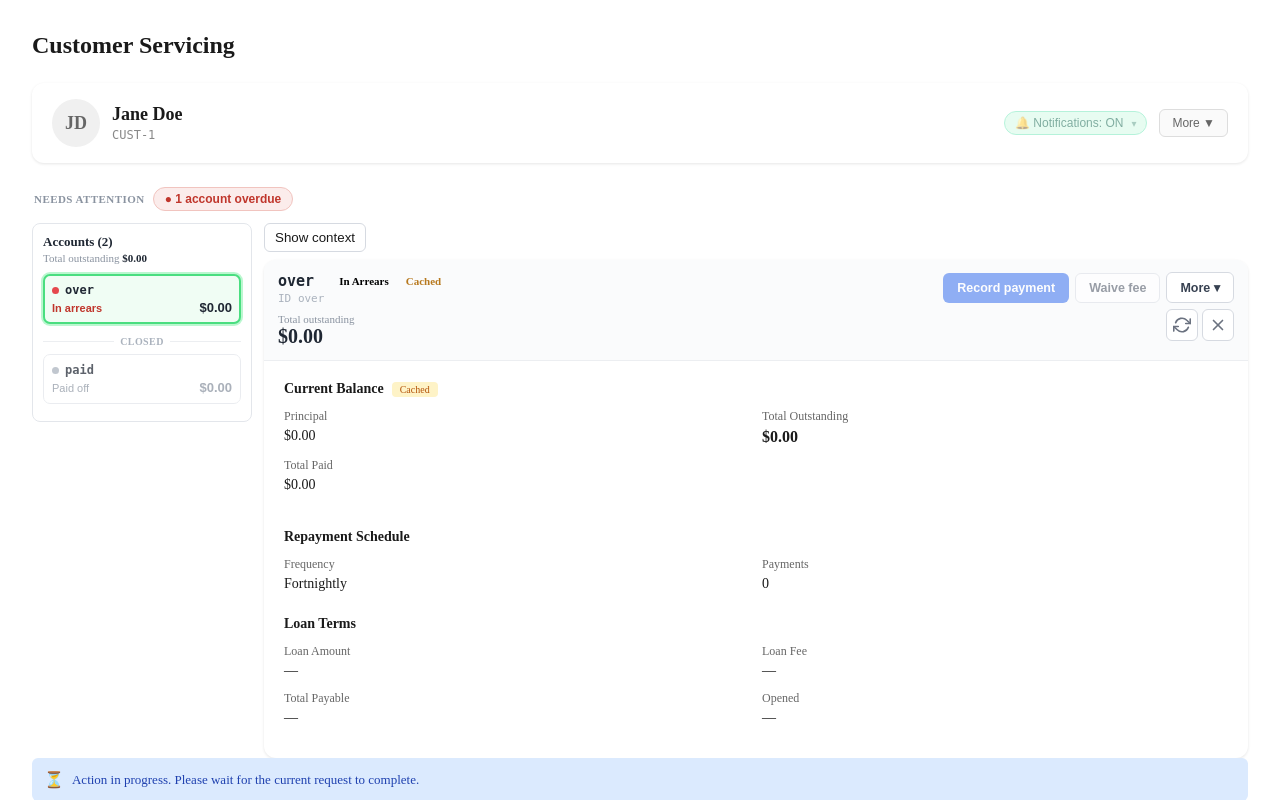
Test: ServicingView context slide-over (≤1440px) › Escape closes it, but not while a dialog opened from inside it is up
Click the button with test id "context-toggle". click: (315, 238)
box: [264,223,366,252]
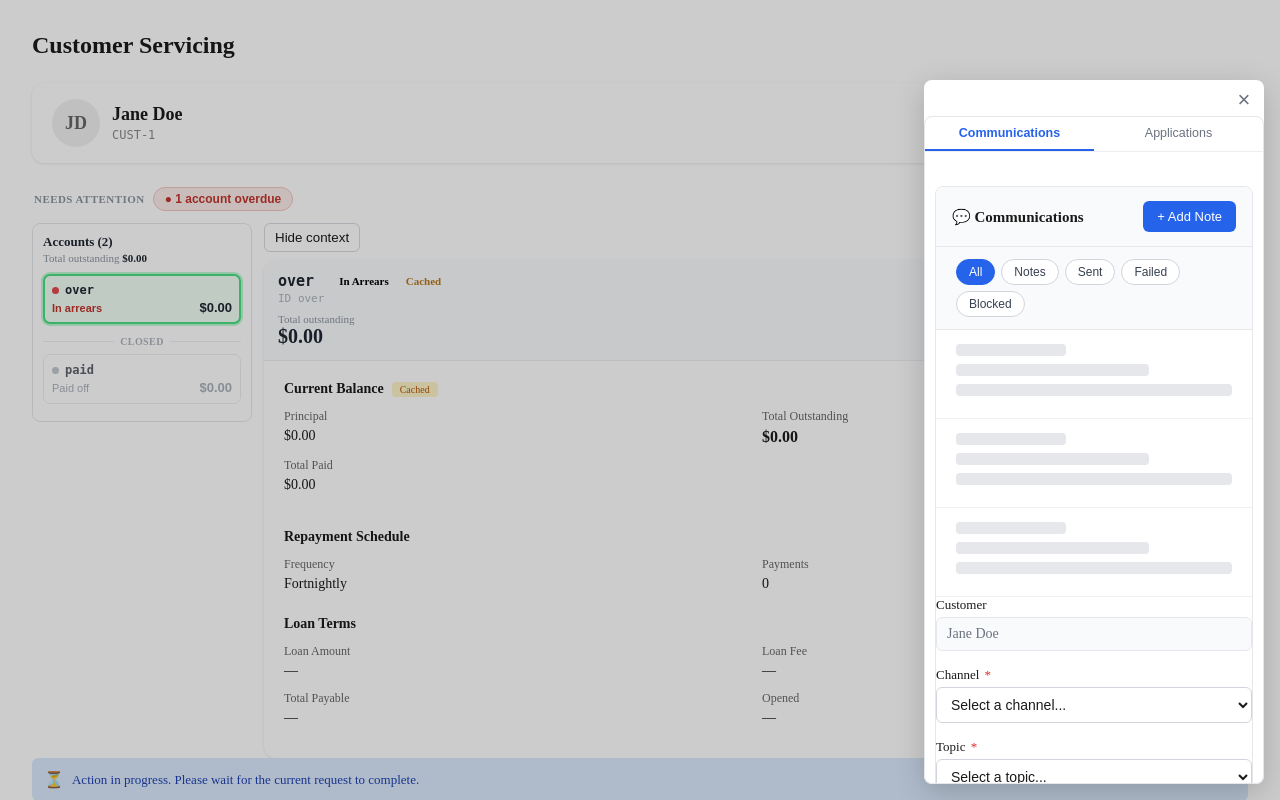
expect the button with test id "context-toggle" is expanded: met, box [264,223,360,252]
expect the element with test id "context-backdrop" is shown: met
Press Escape
expect the button with test id "context-toggle" is expanded: met, box [264,223,360,252]
Press Escape
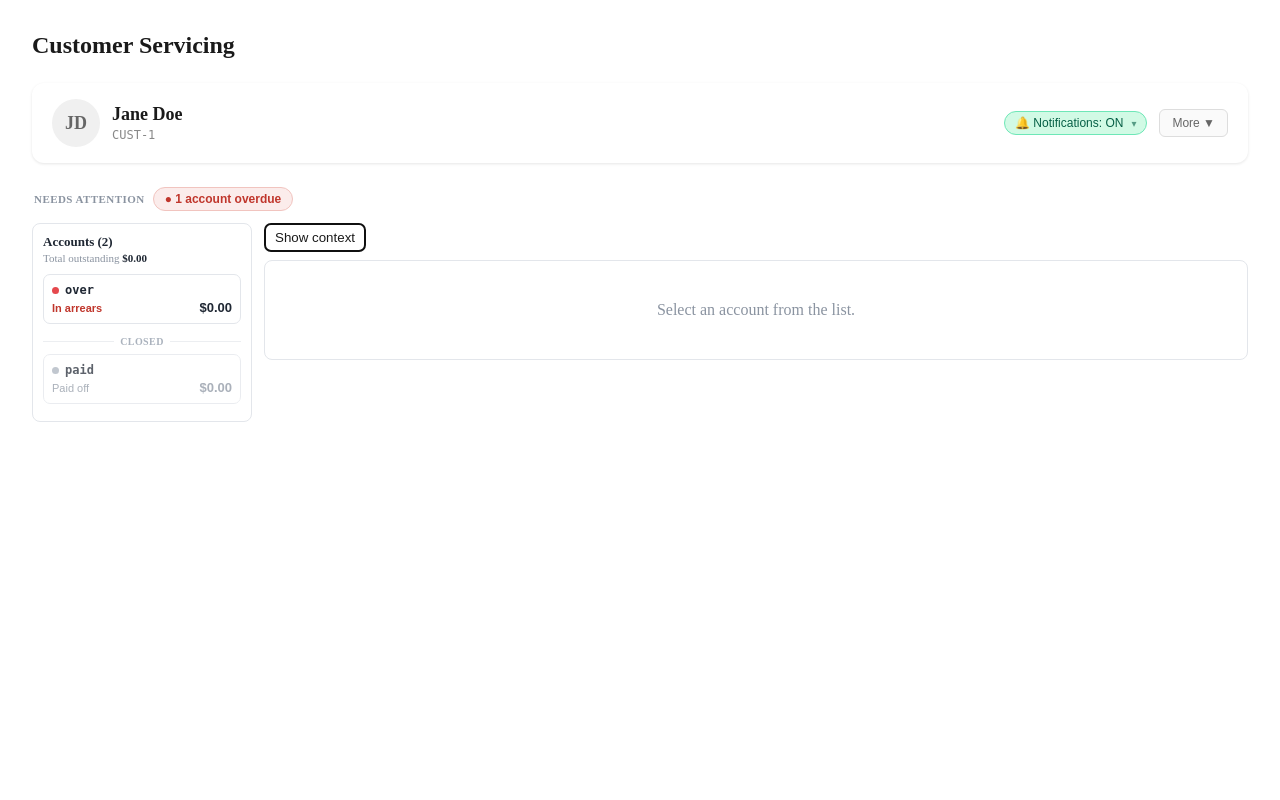
expect the button with test id "context-toggle" is collapsed: met, box [264,223,366,252]
